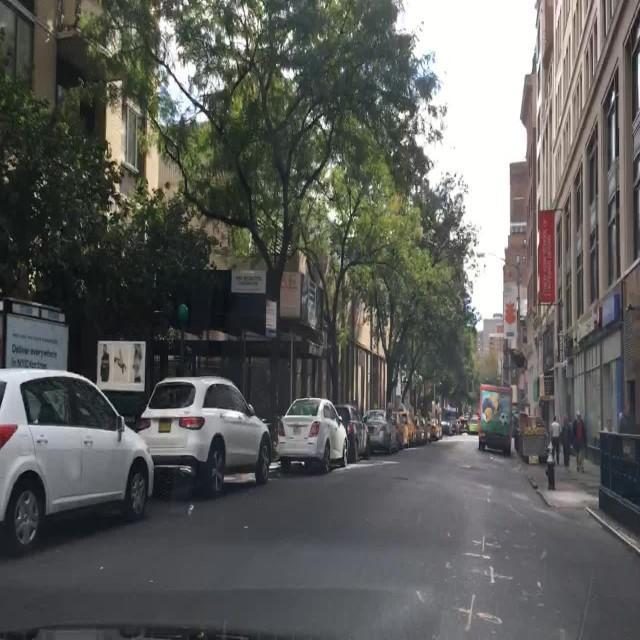normal: (0, 365, 153, 553), (132, 375, 277, 497), (277, 395, 350, 474), (337, 403, 368, 460), (362, 408, 399, 453), (466, 415, 479, 434)
